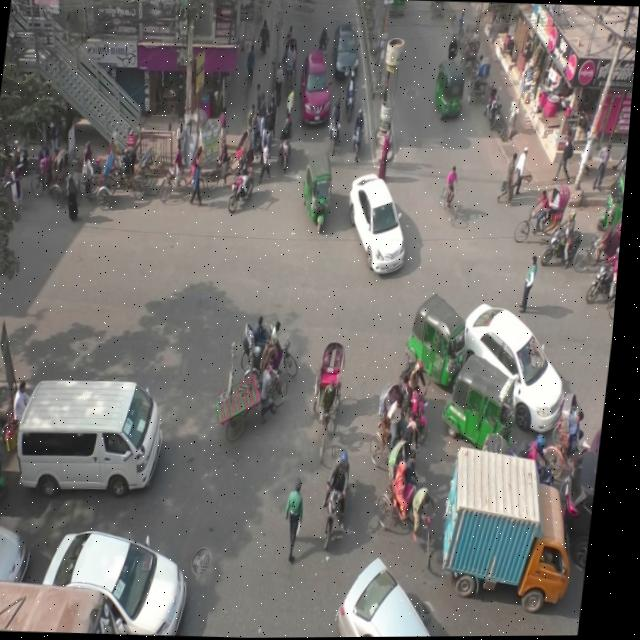cng: (441, 352, 541, 450), (404, 286, 483, 381), (301, 144, 344, 241), (429, 48, 473, 134)
rikshaw: (375, 434, 452, 562), (230, 301, 311, 401), (310, 319, 365, 434), (105, 137, 166, 212), (517, 180, 579, 252), (203, 120, 254, 202), (160, 135, 213, 209), (23, 135, 74, 211), (73, 136, 118, 219), (276, 24, 309, 97), (466, 40, 496, 112)
